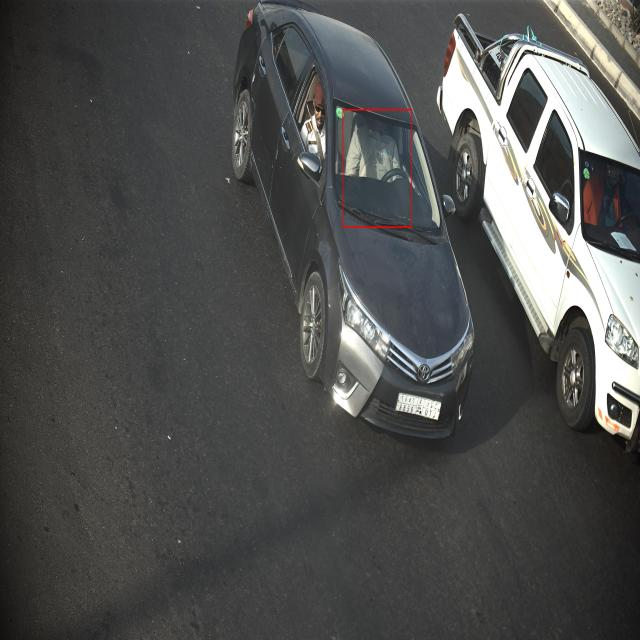windshield: (328, 93, 443, 250), (574, 144, 640, 262)
